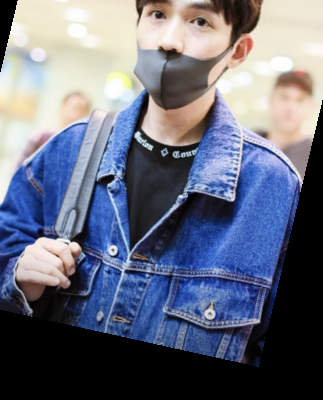mask_weared_incorrect: (116, 1, 267, 114)
